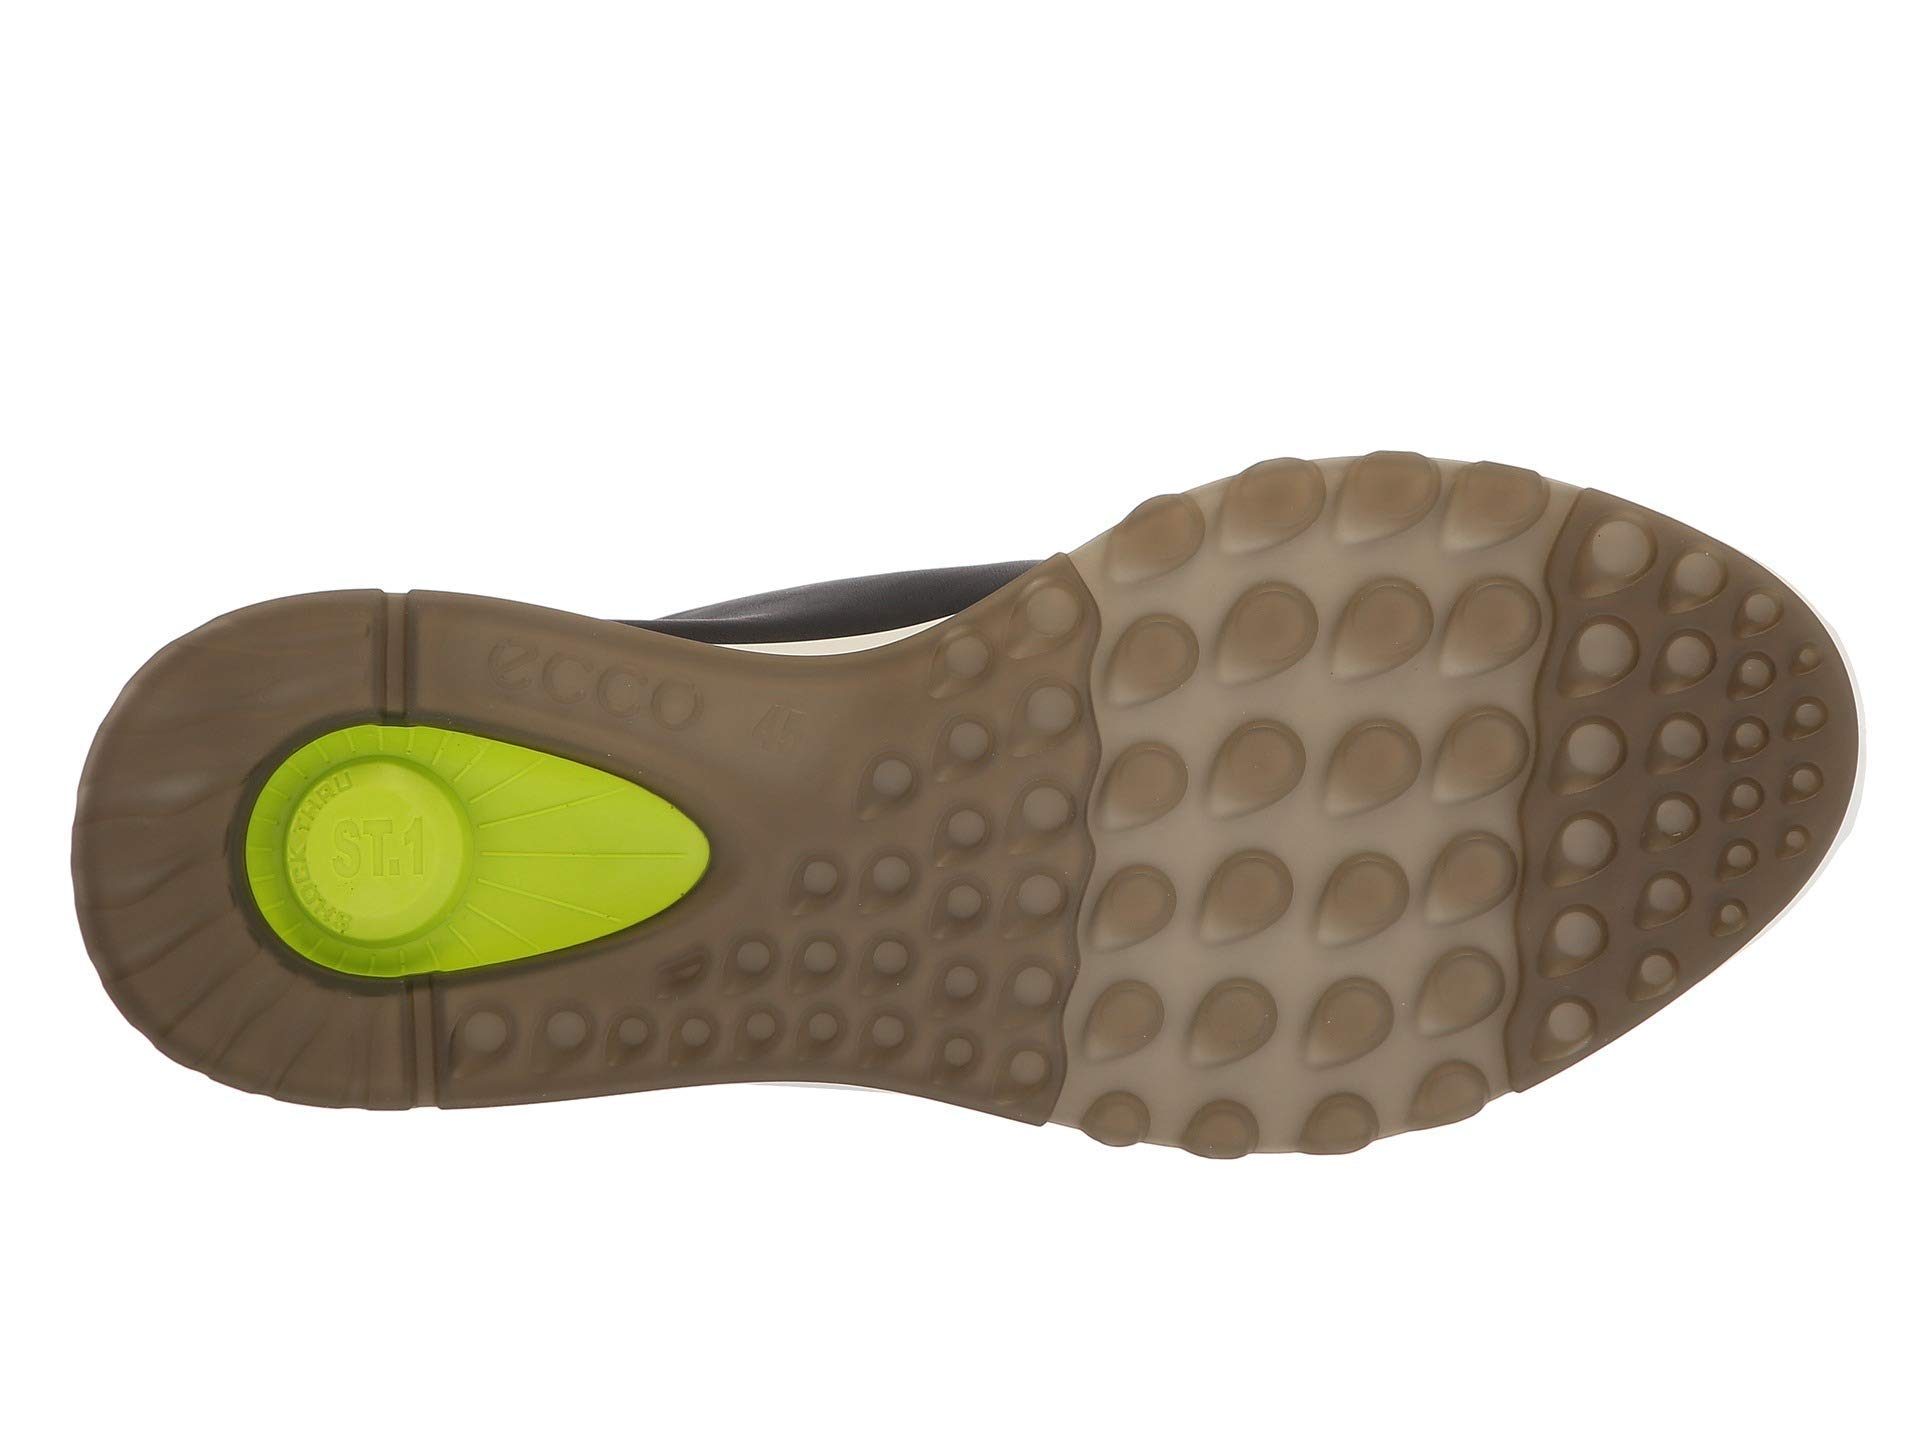circle: (801, 709, 1095, 1013)
